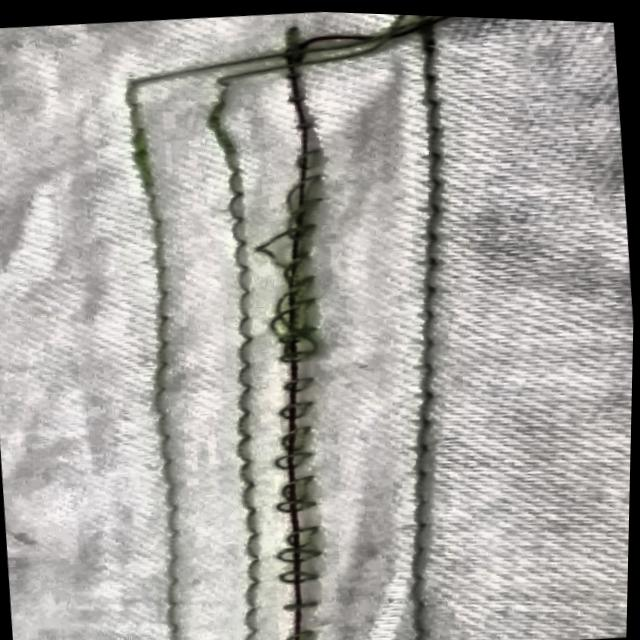Stitch: (251, 371, 357, 624), (244, 136, 346, 375)
